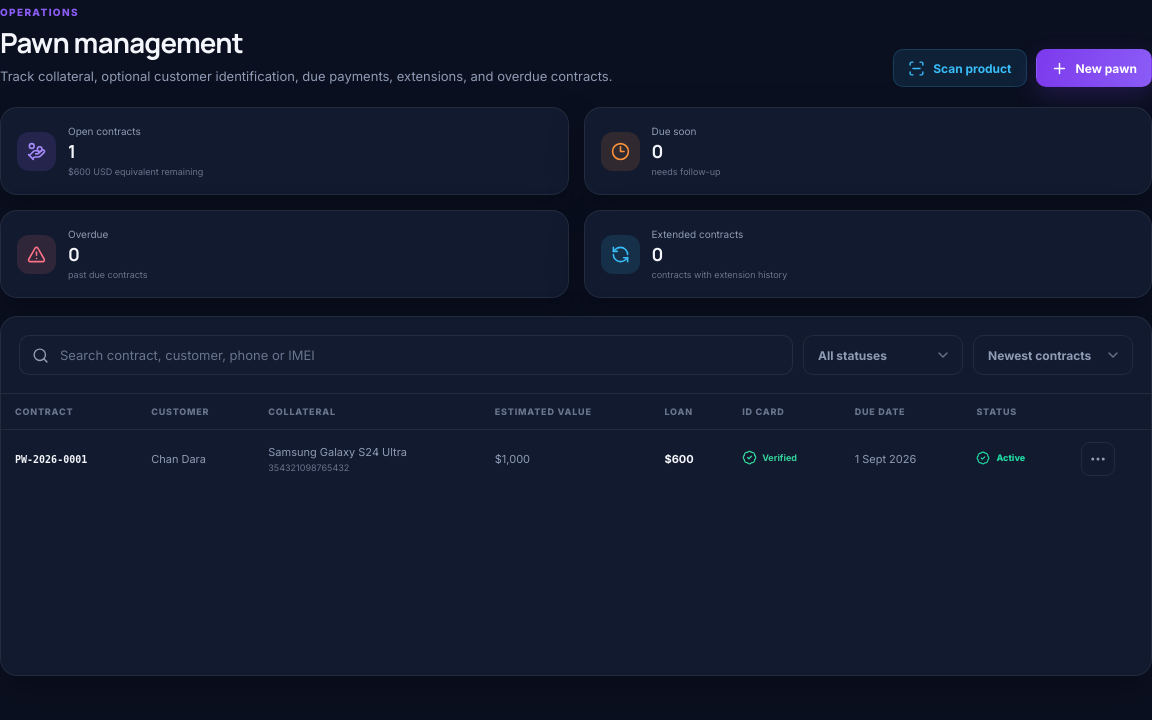
Test: PawnManagementPage feature integration › opens pawn detail modal when contract action is clicked
expect the text "PW-2026-0001" is shown: met, box left=15, top=454, right=87, bottom=465
Click the button named "View PW-2026-0001". click: (1098, 459)
box: left=1081, top=442, right=1115, bottom=476
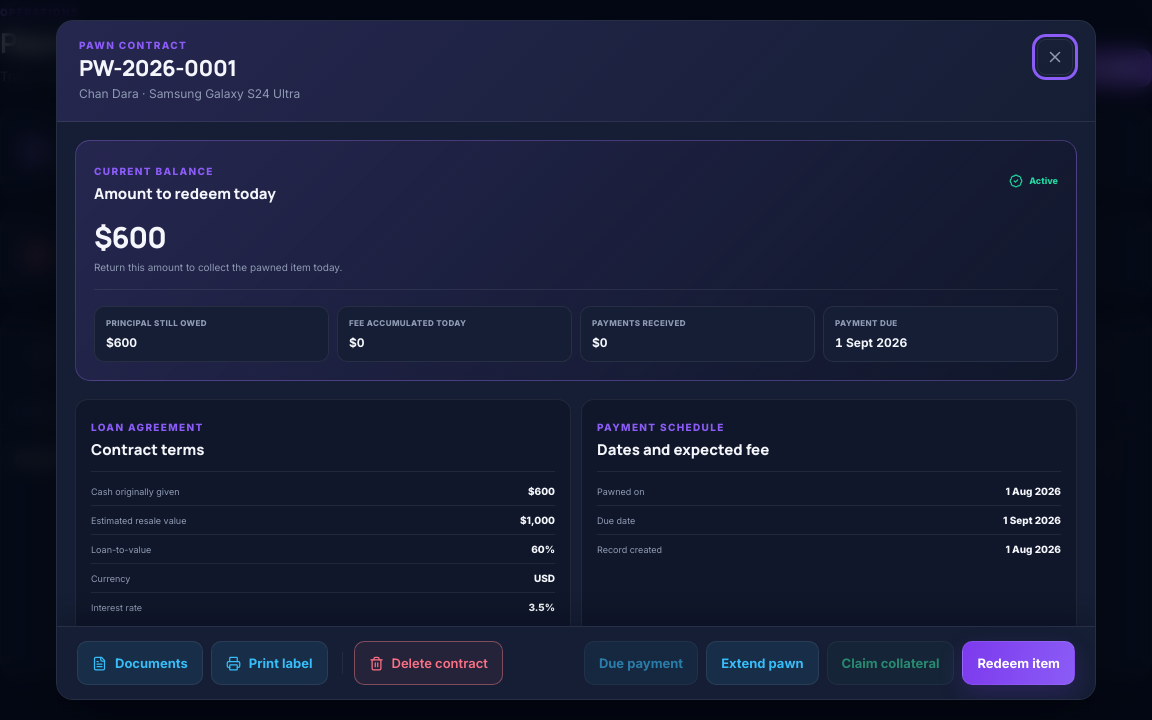
expect the dialog is shown: met
expect the heading "PW-2026-0001" is shown: met, box left=79, top=53, right=237, bottom=83
